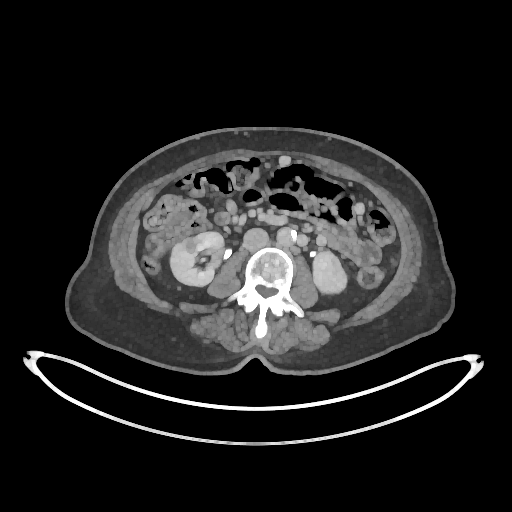Lesion: (181, 238, 199, 255)
